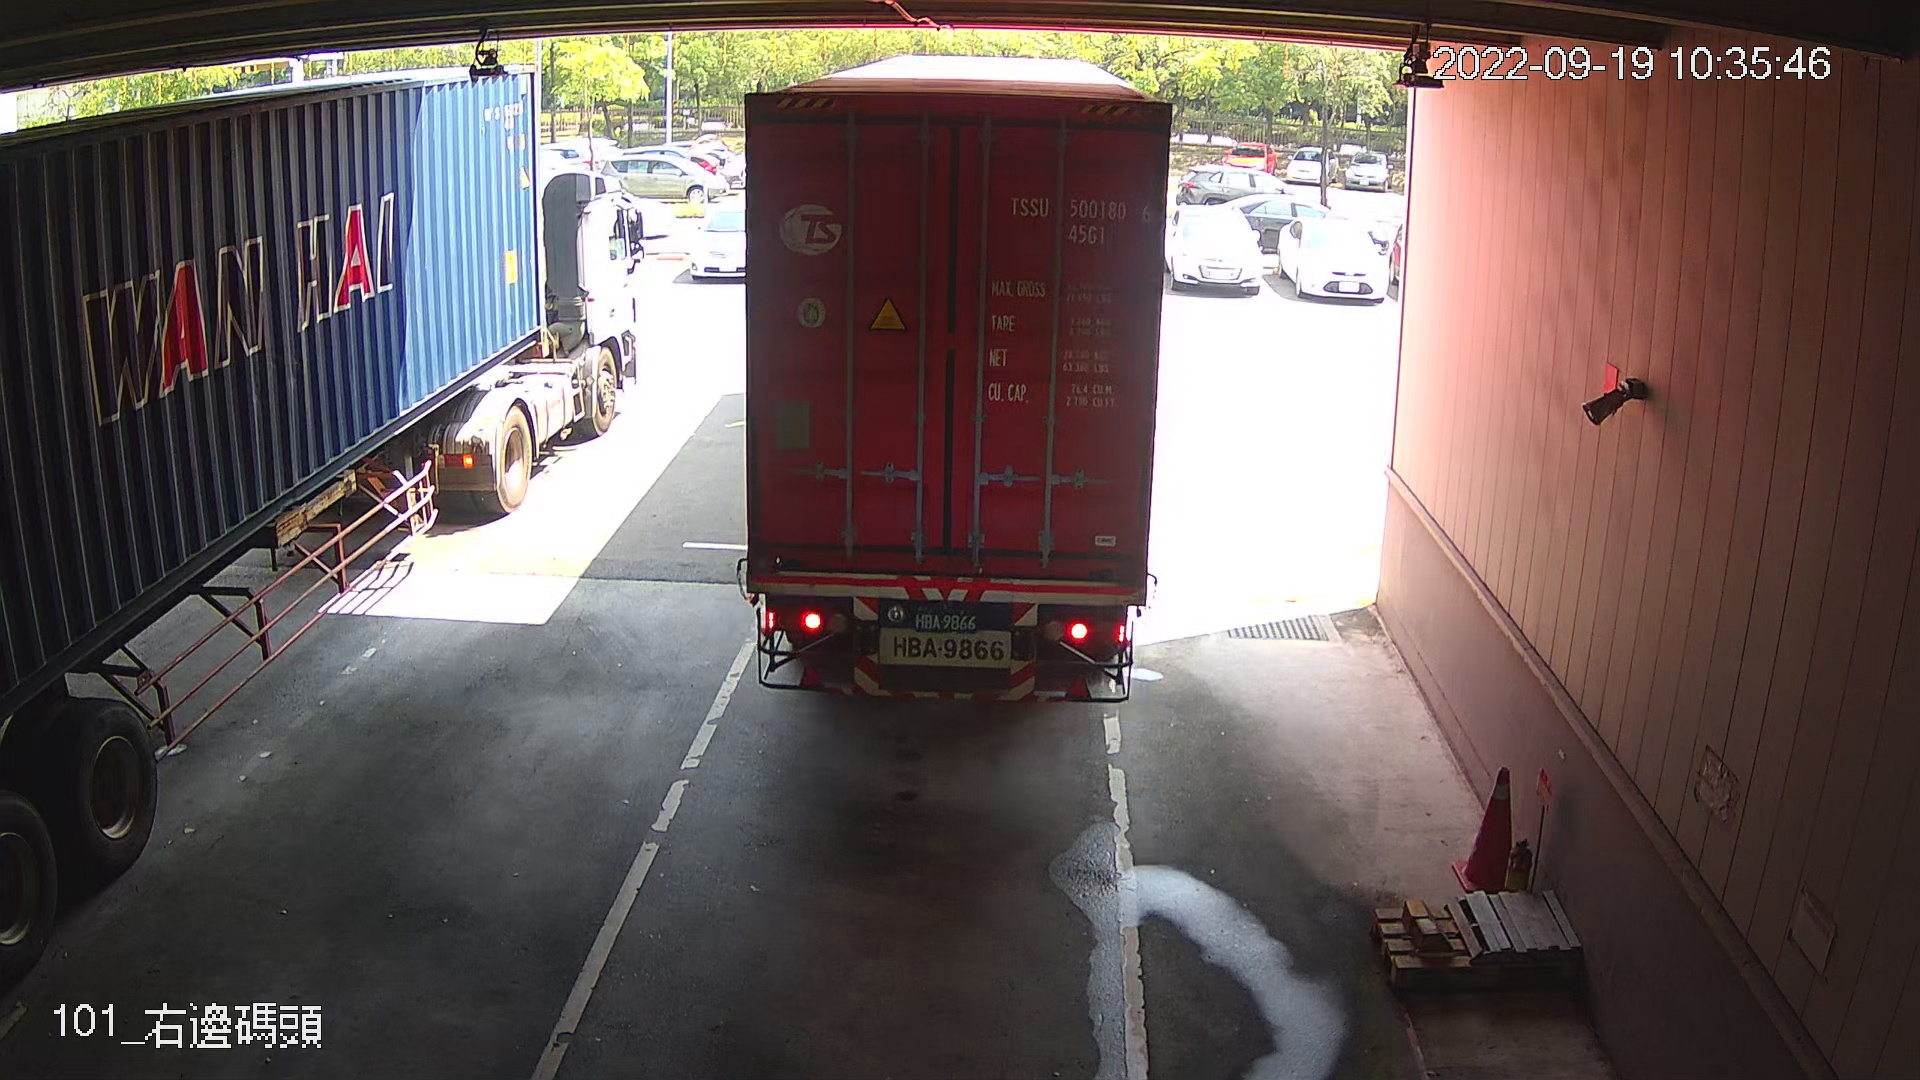container: (1000, 185, 1156, 255)
